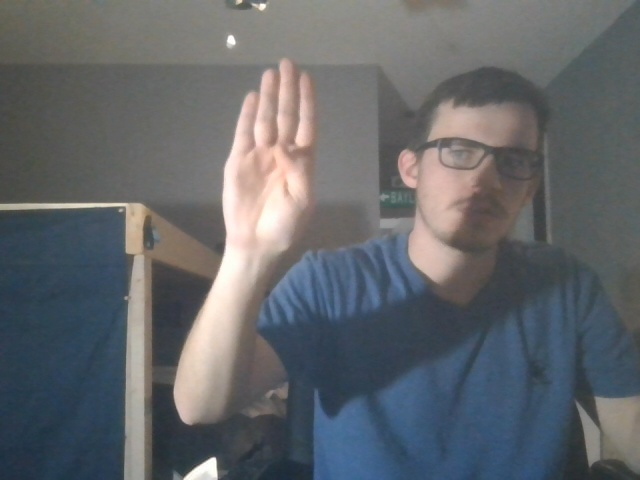B: (213, 57, 340, 269)
